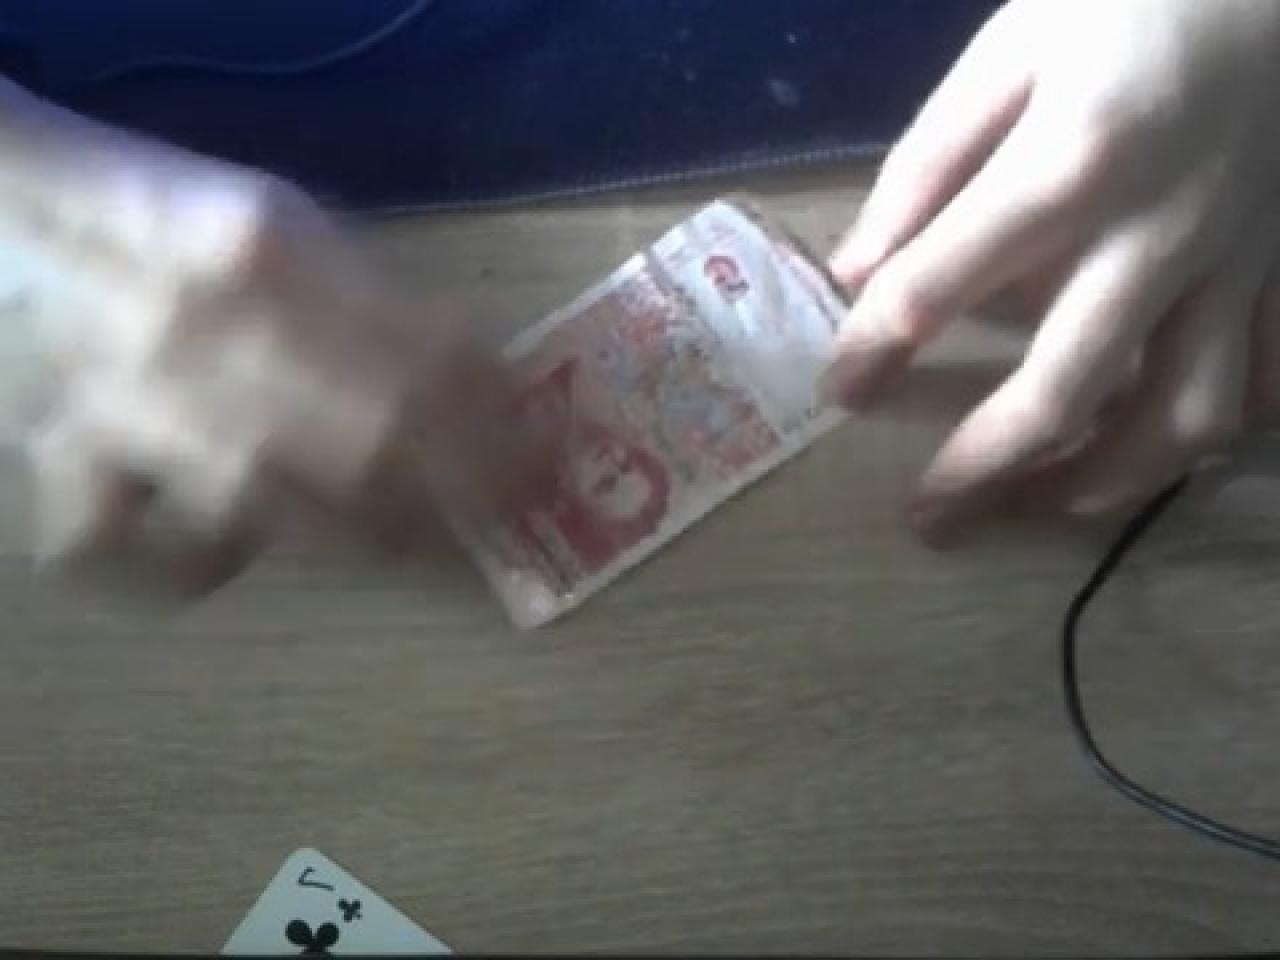5leva: (400, 200, 851, 634)
